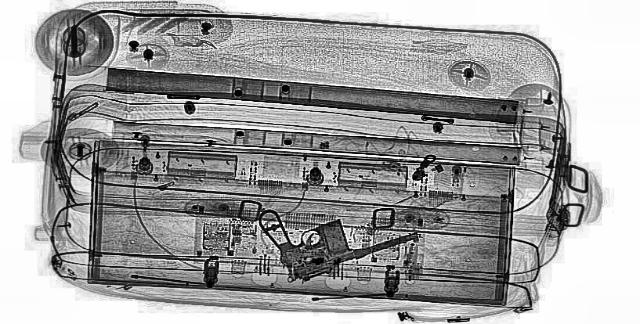Gun: (210, 183, 430, 283)
